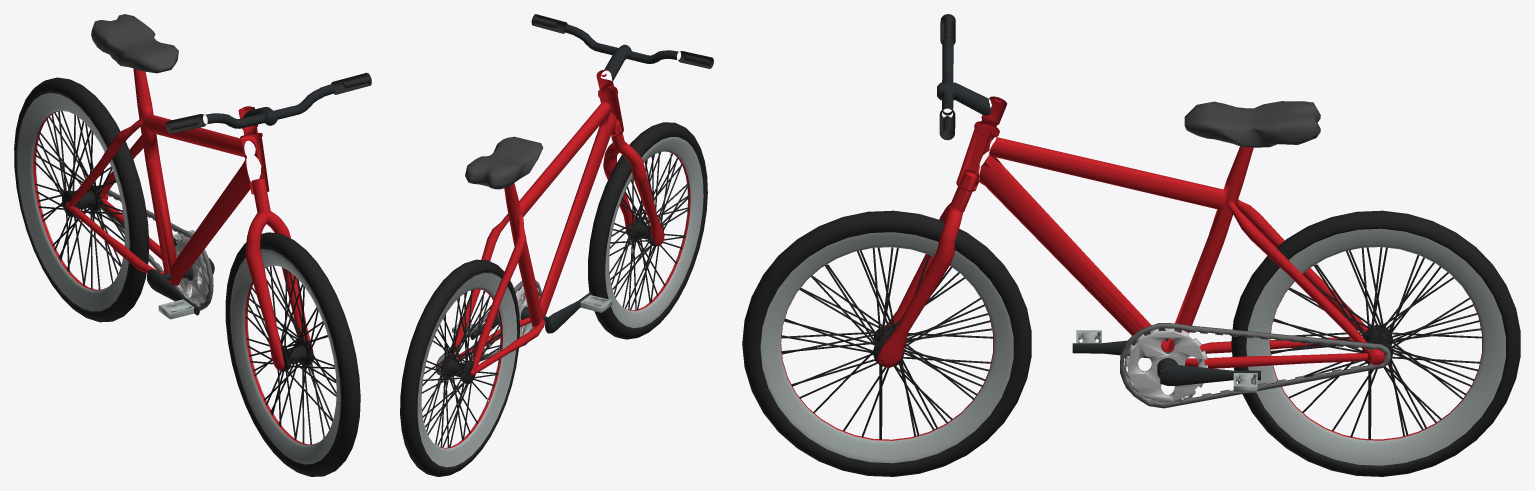
The model's file is basikal_gunung_merah.glb.
3 views of the same model, side by side, from view 1: azimuth 30°, elevation 25°; view 2: azimuth 150°, elevation 25°; view 3: azimuth 270°, elevation 25° (orthographic). The views are drawn at different scales.
Visible parts, largest first — view 1: basikal_gunung_merah; view 2: basikal_gunung_merah; view 3: basikal_gunung_merah.
Boxes of the visible parts, x1=… form: basikal_gunung_merah: x1=14, y1=14, x2=371, y2=476; basikal_gunung_merah: x1=400, y1=14, x2=713, y2=476; basikal_gunung_merah: x1=742, y1=14, x2=1520, y2=476.
Size of the model in its own units: 0.6087 by 1.03 by 1.78.
